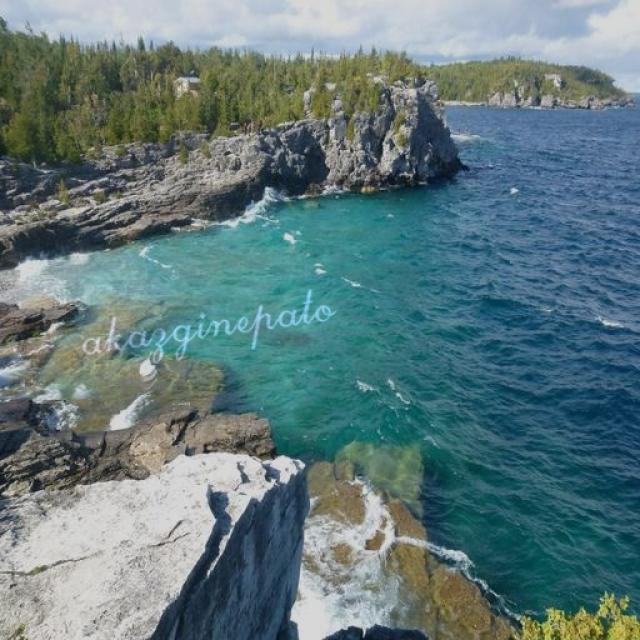watermark: (71, 283, 336, 363)
